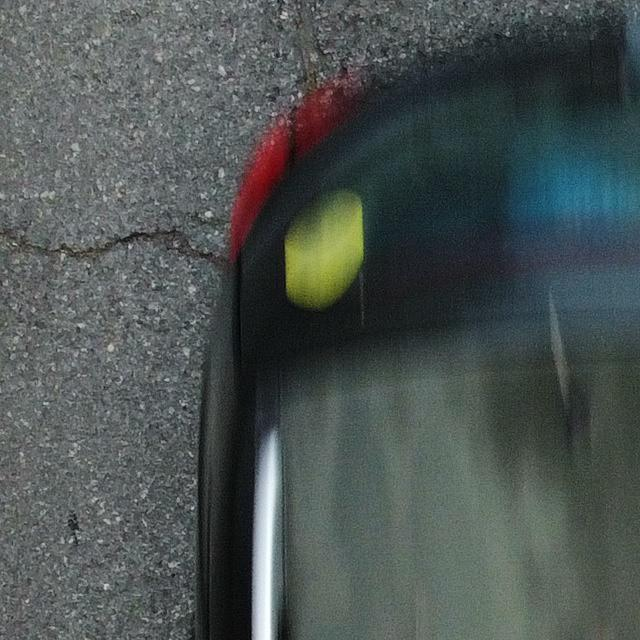TransverseCrack: (9, 227, 226, 268)
